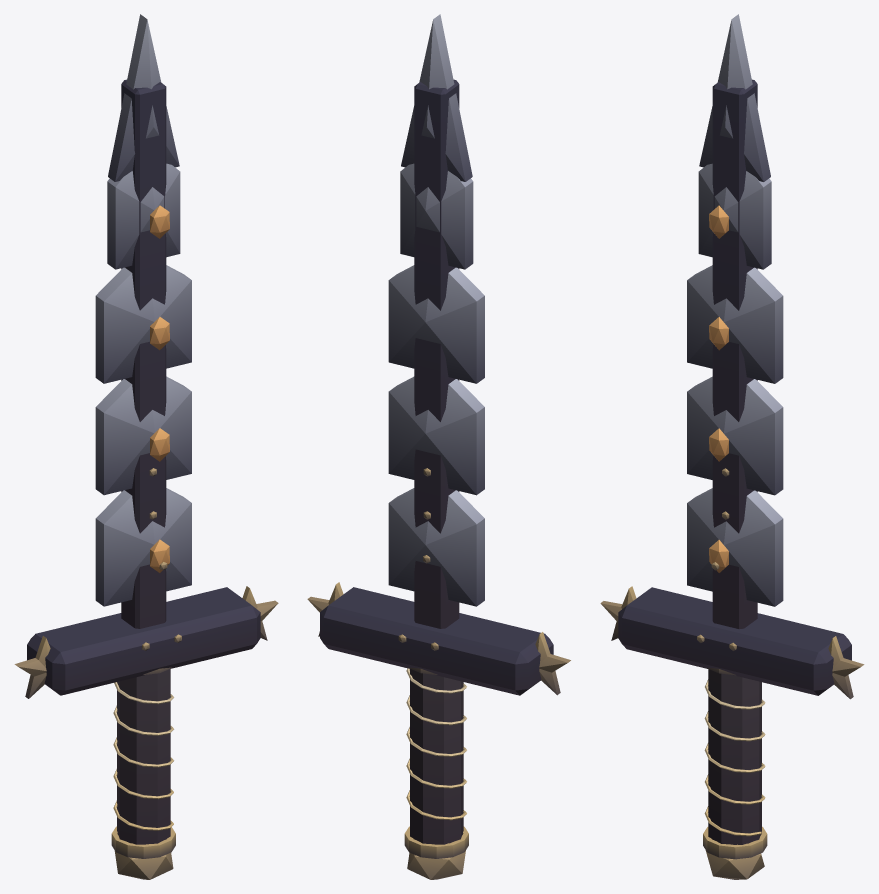
File: espada_segmento_estelar.glb
The picture shows the model from 3 angles, left to right: view 1: azimuth 30°, elevation 25°; view 2: azimuth 150°, elevation 25°; view 3: azimuth 330°, elevation 25°; orthographic projection.
Visible parts, largest first — view 1: espada_segmento_estelar_finished; view 2: espada_segmento_estelar_finished; view 3: espada_segmento_estelar_finished.
Part boxes in pixels (x1,y1,x2,y2): espada_segmento_estelar_finished: (14, 14, 278, 879); espada_segmento_estelar_finished: (307, 14, 570, 879); espada_segmento_estelar_finished: (600, 14, 864, 879).
Bounding box in the file's own units: 0.5636 × 1.78 × 0.1502.
Materials: 2 (2 with a texture image).
